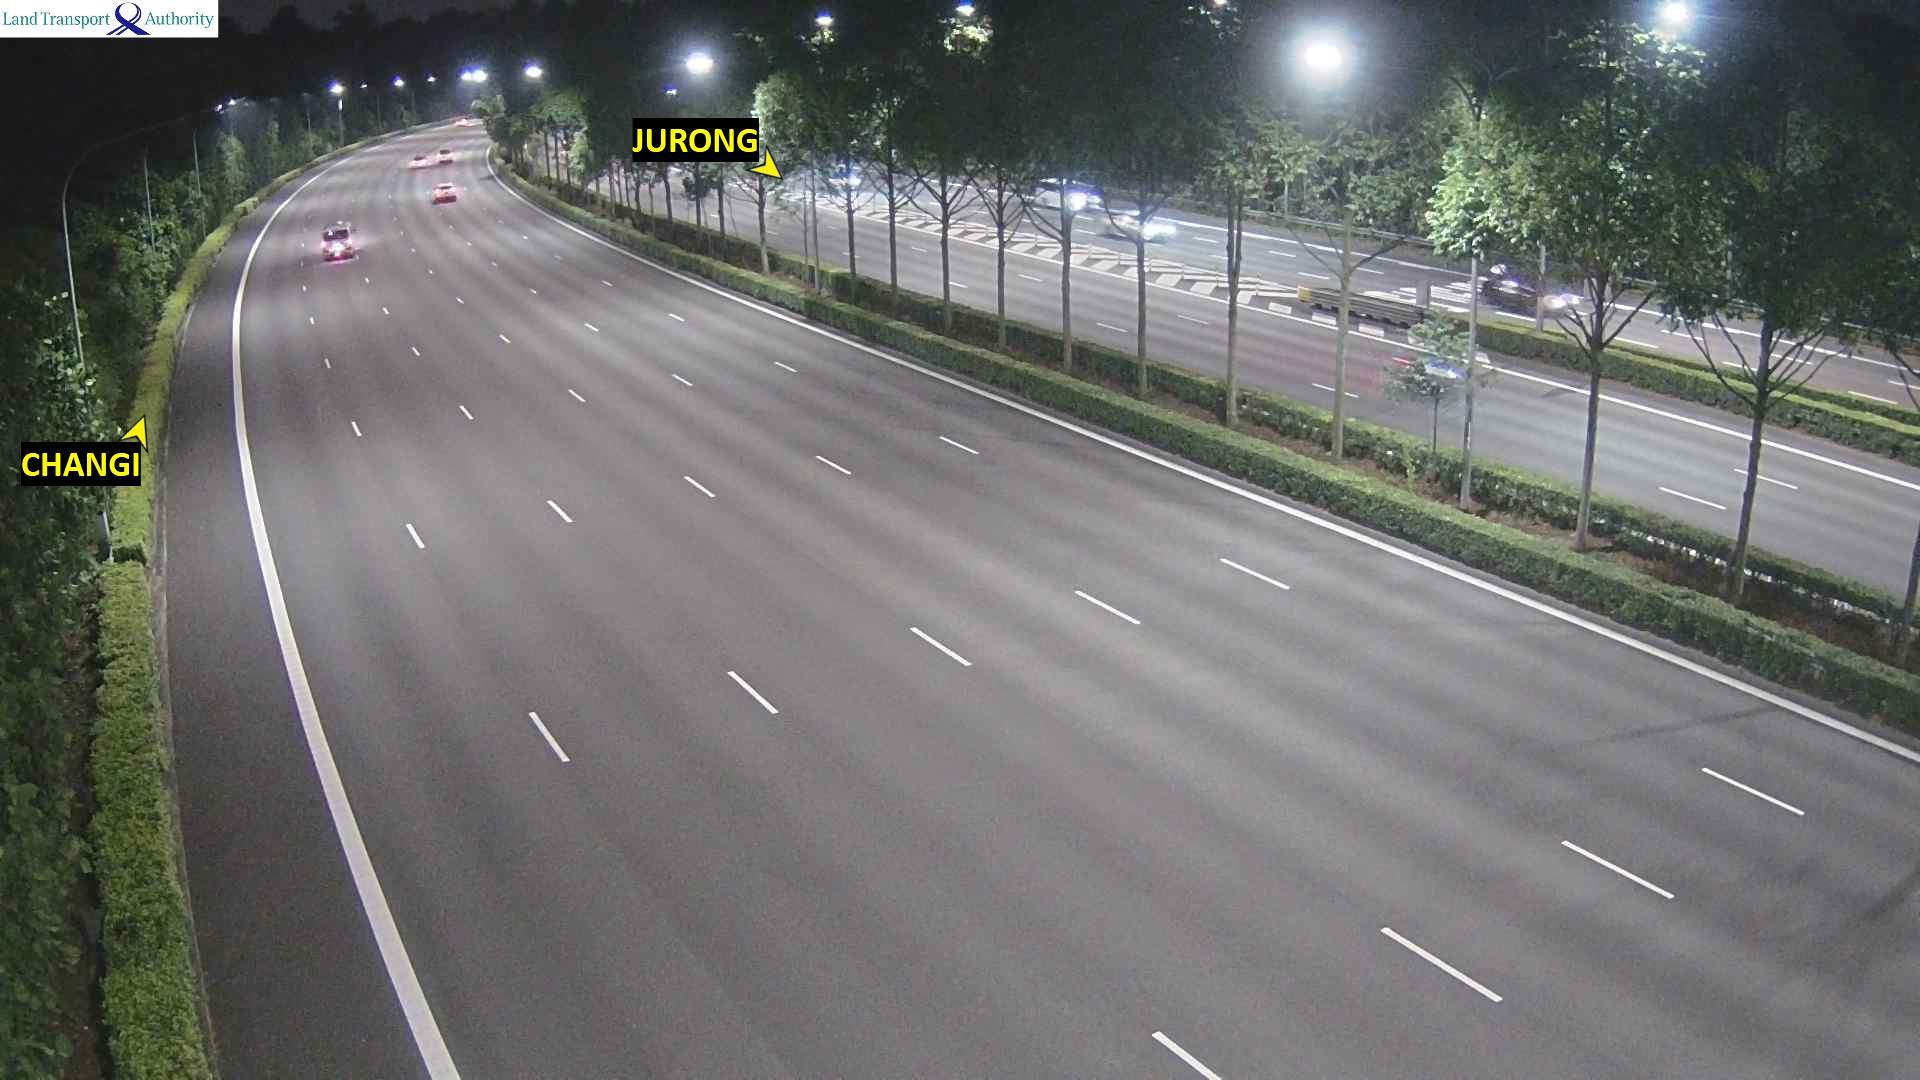cars: (1393, 344, 1491, 386), (1027, 175, 1104, 211), (1102, 210, 1178, 243), (825, 161, 862, 186), (320, 240, 356, 262), (320, 218, 352, 243), (430, 182, 458, 203), (407, 153, 429, 169), (436, 146, 454, 164), (454, 115, 472, 127)
trucks: (1476, 262, 1582, 319)
